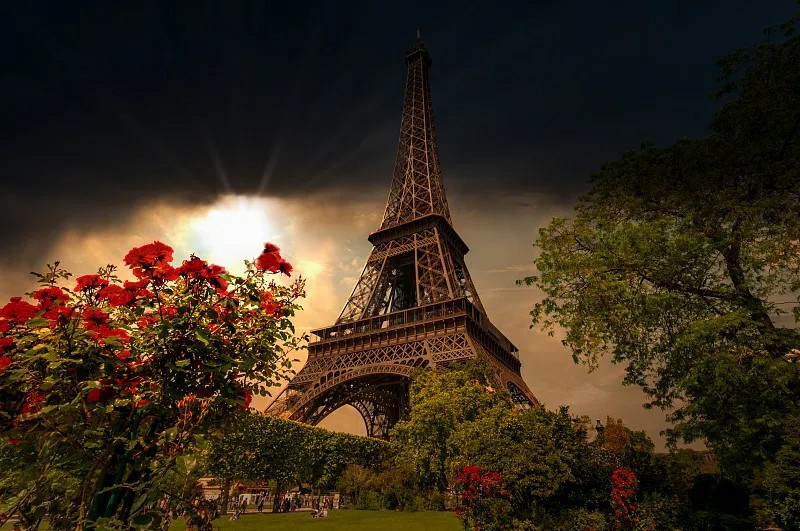Eiffel: (263, 28, 558, 442)
